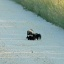skunk: (26, 29, 42, 40)
